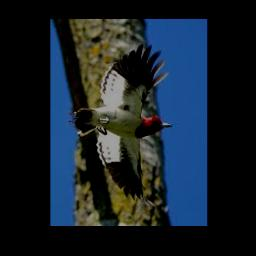Woodpecker: (69, 45, 173, 206)
